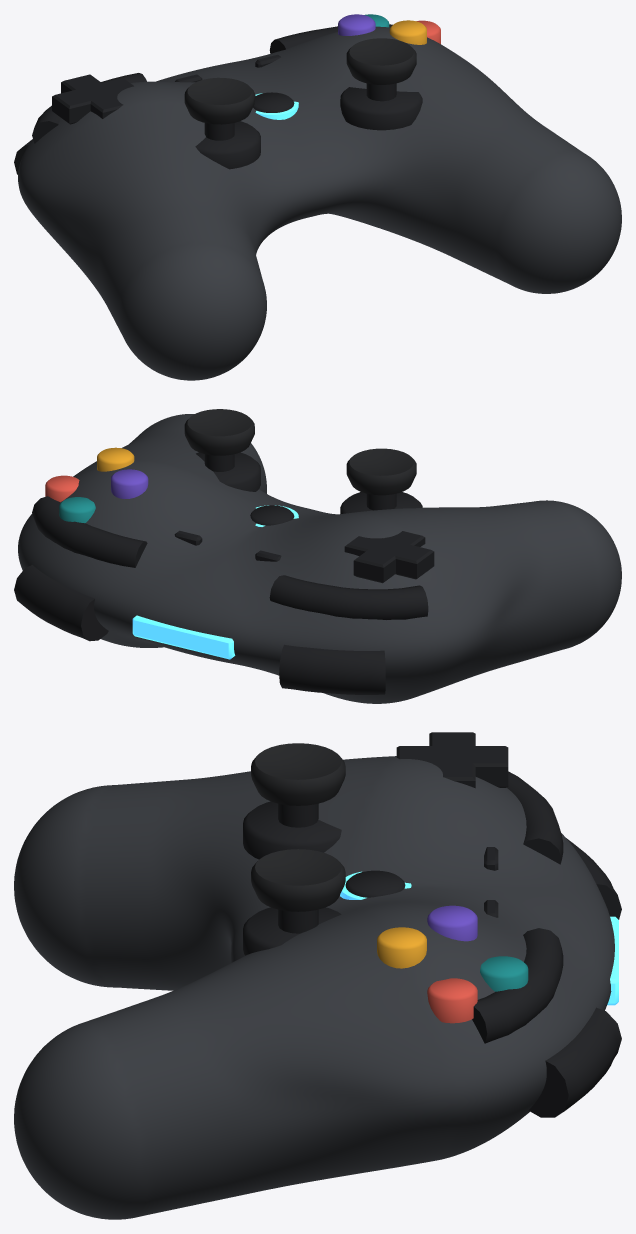
The model's file is wireless-gamepad.glb.
3 renders of one model, top to bottom at view 1: azimuth 30°, elevation 25°; view 2: azimuth 150°, elevation 25°; view 3: azimuth 270°, elevation 25°, orthographic. The views are drawn at different scales.
Parts seen in each view (by area): view 1: Wireless_Gamepad; view 2: Wireless_Gamepad; view 3: Wireless_Gamepad.
Boxes of the visible parts, box(x1,y1,x2,y2) form: Wireless_Gamepad: box(14, 14, 621, 380); Wireless_Gamepad: box(14, 409, 621, 703); Wireless_Gamepad: box(14, 732, 621, 1219).
Size of the model in its own units: 0.156 by 0.0635 by 0.1261.
